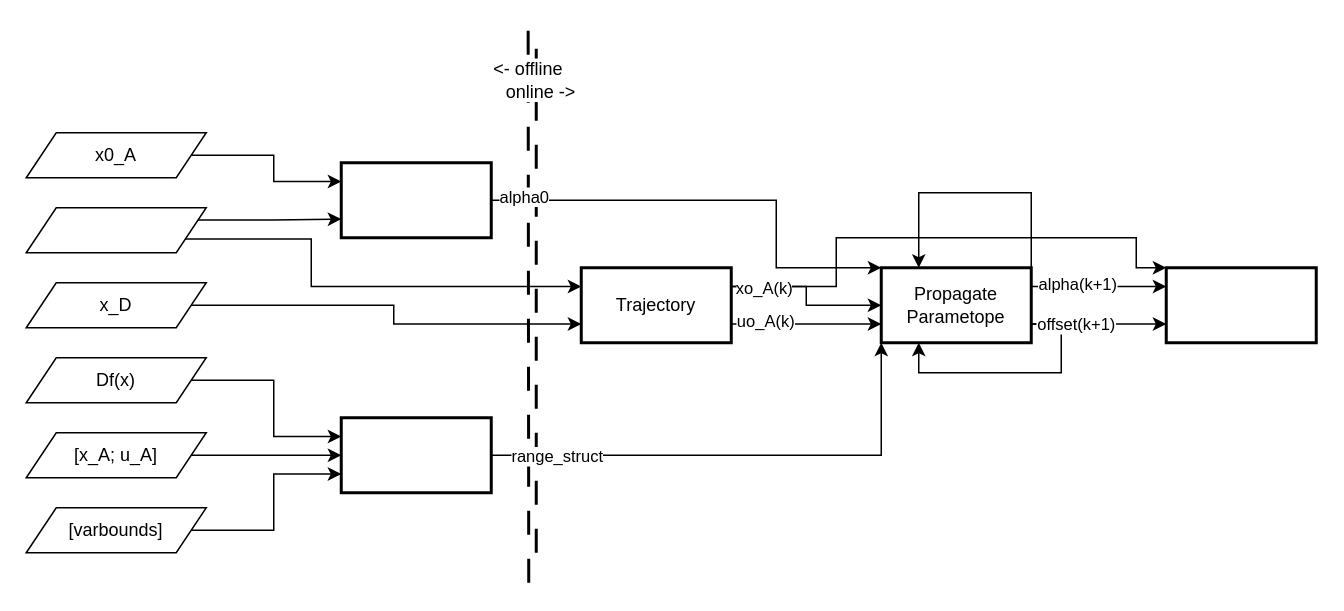
This 1344x611 diagram has some shape labels left out. Each missing label, with the box of its shape:
calcAlpha0: (339, 160, 492, 238)
dx_A: (25, 206, 206, 253)
initRangeStruct: (339, 416, 492, 494)
Plot Ellipsoids: (1164, 266, 1317, 344)
